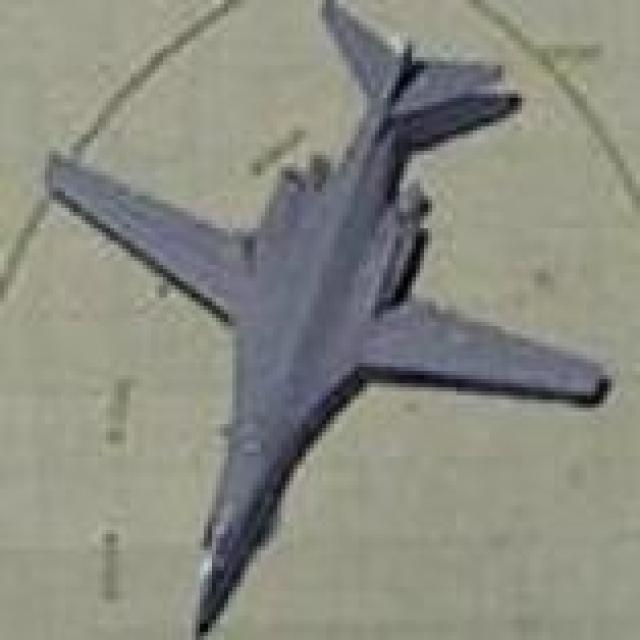B-1_TopDown: (32, 0, 616, 636)
